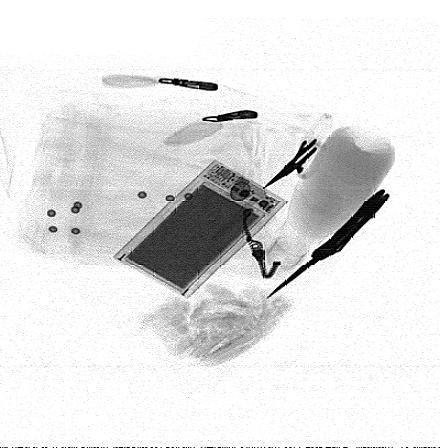Knife: (262, 187, 392, 304)
Powerbank: (110, 159, 288, 301)
Scissors: (264, 111, 333, 187)
